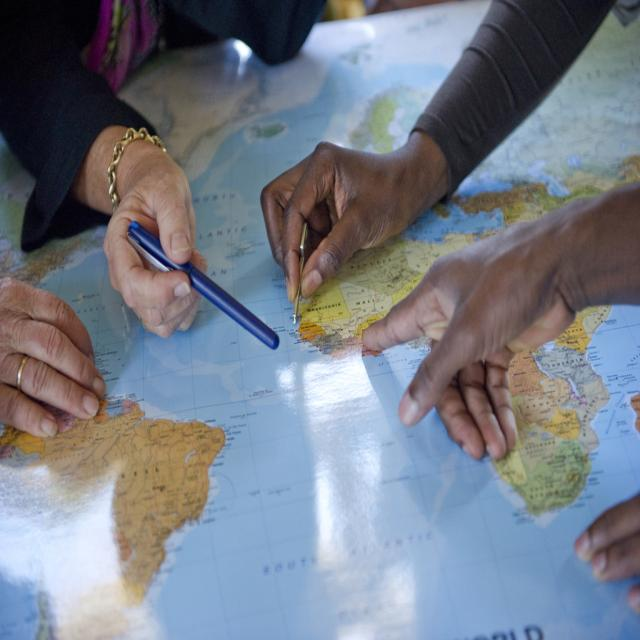pen: (124, 220, 280, 354)
